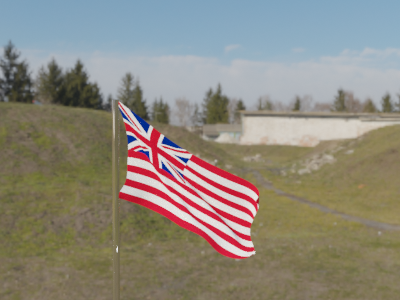Malaysia flag: (116, 101, 262, 260)
